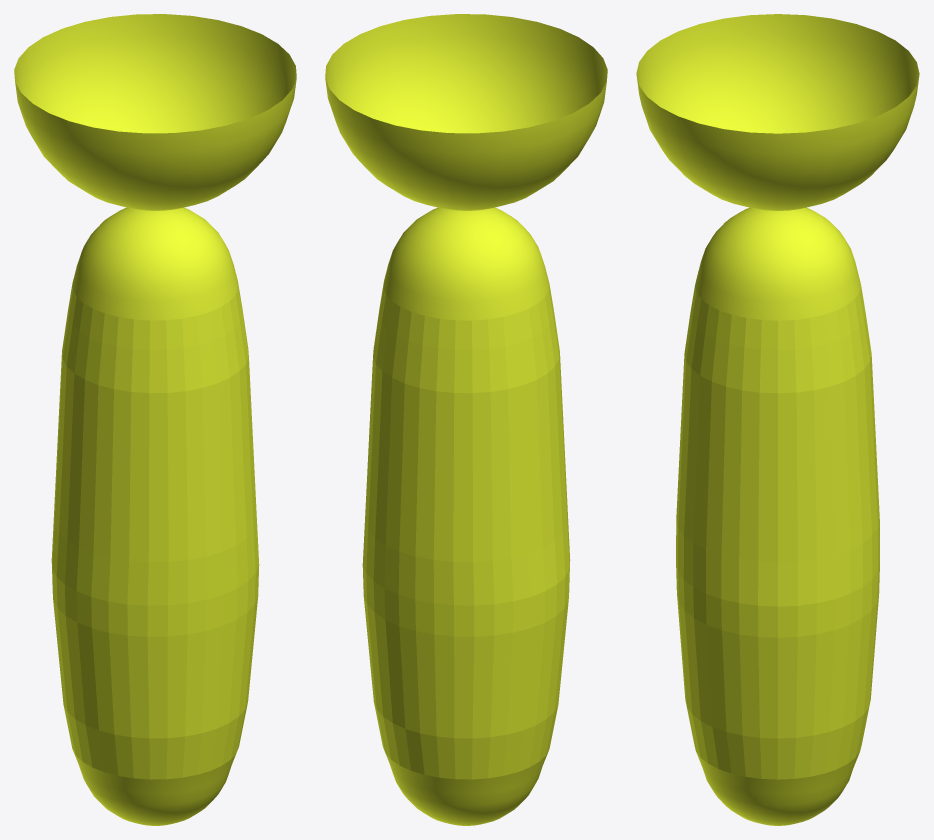
File: ヘルメット以外.fbx
3 renders of one model, left to right at view 1: azimuth 30°, elevation 25°; view 2: azimuth 150°, elevation 25°; view 3: azimuth 270°, elevation 25°, orthographic.
Visible parts, largest first — view 1: オブジェクト004; view 2: オブジェクト004; view 3: オブジェクト004.
Boxes of the visible parts, x1=… form: オブジェクト004: x1=14, y1=14, x2=296, y2=825; オブジェクト004: x1=325, y1=14, x2=607, y2=825; オブジェクト004: x1=636, y1=14, x2=919, y2=825.
Size of the model in its own units: 11.78 by 34.18 by 11.78.
